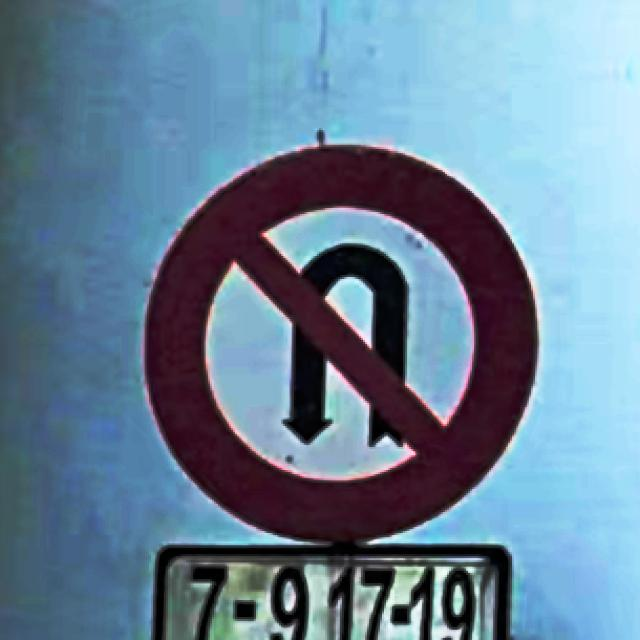nouturn: (143, 147, 537, 543)
